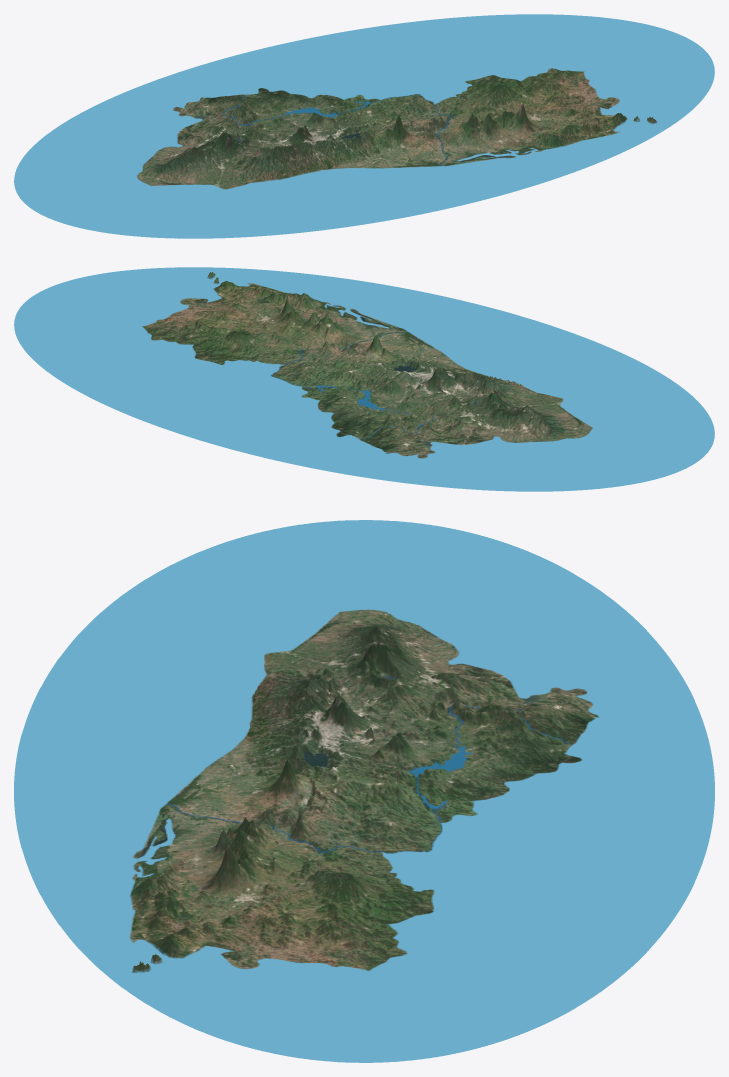
The model's file is SLV-previa-terrain.glb.
3 views of the same model, one above another, from view 1: azimuth 30°, elevation 25°; view 2: azimuth 150°, elevation 25°; view 3: azimuth 270°, elevation 25° (orthographic). The views are drawn at different scales.
Visible parts, largest first — view 1: El Salvador; view 2: El Salvador; view 3: El Salvador.
Part boxes in pixels (bbox=[...]): El Salvador: bbox=[14, 14, 714, 238]; El Salvador: bbox=[14, 267, 714, 491]; El Salvador: bbox=[14, 520, 714, 1062].
Size of the model in its own units: 2.63 by 0.0954 by 1.43.
Materials: 1 (1 with a texture image).
